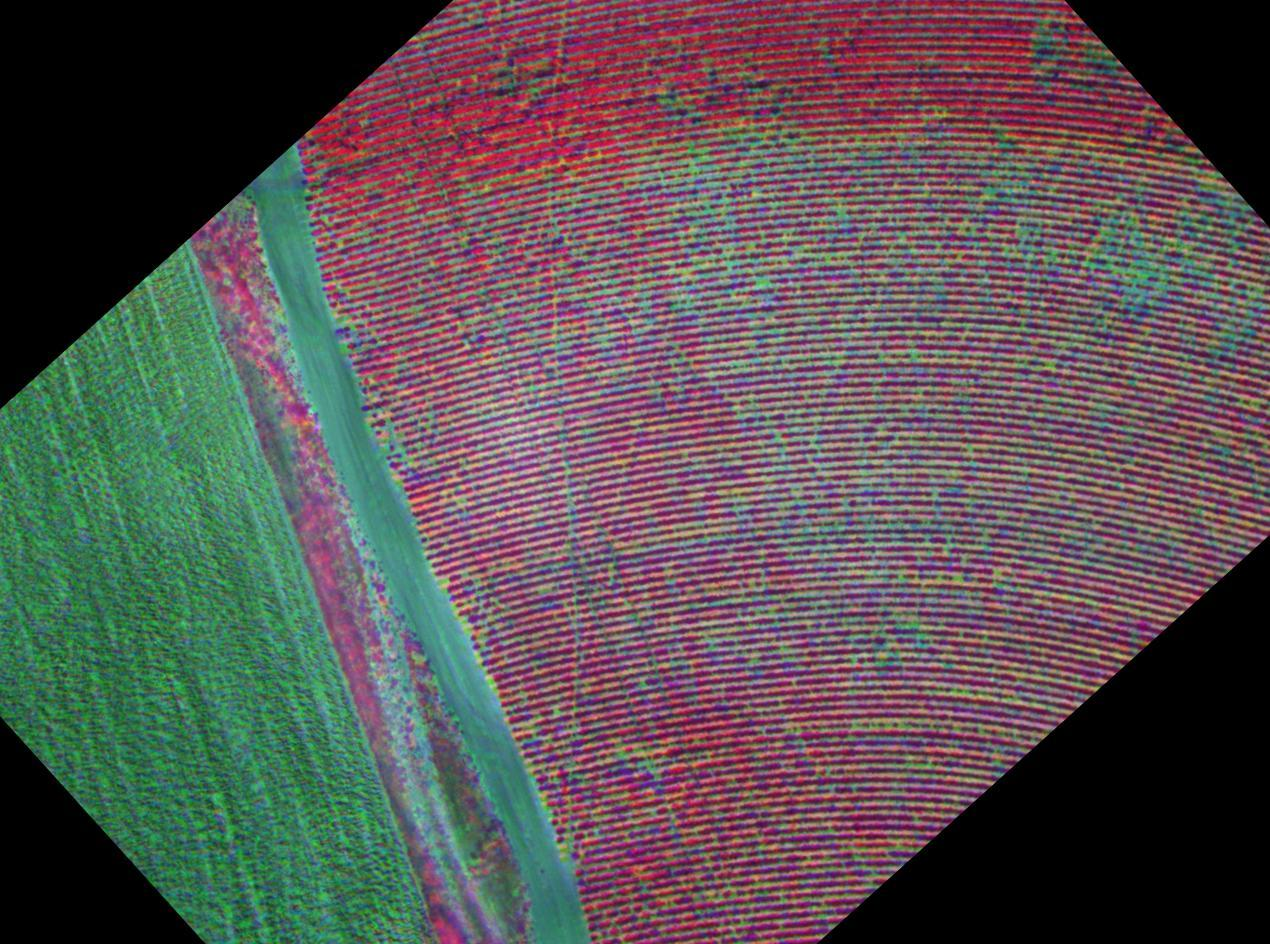dc: (1128, 270, 1140, 282), (1202, 181, 1212, 192), (1019, 227, 1028, 239), (757, 278, 769, 287), (953, 574, 963, 584), (653, 769, 660, 779)
